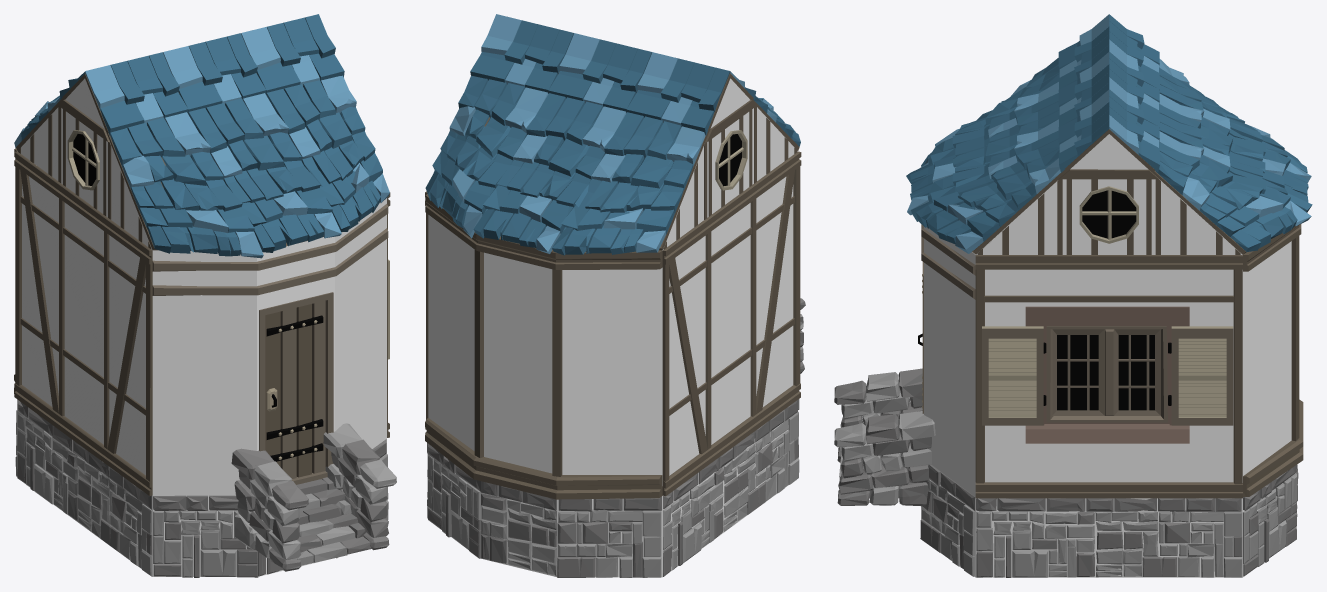
File: house_15_full.glb
The picture shows the model from 3 angles, left to right: view 1: azimuth 30°, elevation 25°; view 2: azimuth 150°, elevation 25°; view 3: azimuth 270°, elevation 25°; orthographic projection.
Parts seen in each view (by area): view 1: DOOR_06_Balkon_2, ROOF_base_round_2, WALL_02_2, STSAIRS_07_2, FOUNDATION_02_24, FOUNDATION_01_4, ROOF_base_small_4, ROOF_base_small_6, ROOF_base_small_5, ROOF_Window_round_3, ROOF_trinagle_right_wood_3, ROOF_trinagle_left_wood_3 (+2 smaller); view 2: WINDOW_01_Balkon_2, ROOF_base_round_3, WALL_02_2, FOUNDATION_01_5, FOUNDATION_02_24, ROOF_base_small_9, ROOF_base_small_8, ROOF_base_small_7, ROOF_Window_round_3, ROOF_trinagle_left_wood_3, ROOF_trinagle_right_wood_3, ROOF_triangles_up_wood_4 (+2 smaller); view 3: WINDOW_06_2, FOUNDATION_02_25, ROOF_base_round_2, ROOF_base_round_3, WINDOW_01_Balkon_2, DOOR_06_Balkon_2, STSAIRS_07_2, ROOF_Window_round_2, FOUNDATION_01_4, FOUNDATION_01_5, ROOF_trinagle_right_wood_2, ROOF_trinagle_left_wood_2 (+7 smaller).
Boxes of the visible parts, x1,y1,x2,y2 form: DOOR_06_Balkon_2: (152,198,388,495); ROOF_base_round_2: (107,75,389,258); WALL_02_2: (14,151,152,495); STSAIRS_07_2: (231,423,396,571); FOUNDATION_02_24: (17,399,152,576); FOUNDATION_01_4: (152,438,388,577); ROOF_base_small_4: (85,52,188,135); ROOF_base_small_6: (241,14,344,95); ROOF_base_small_5: (163,33,266,114); ROOF_Window_round_3: (62,109,107,216); ROOF_trinagle_right_wood_3: (107,142,152,249); ROOF_trinagle_left_wood_3: (17,106,62,183); WINDOW_01_Balkon_2: (425,194,662,499); ROOF_base_round_3: (425,75,707,255); WALL_02_2: (662,151,801,496); FOUNDATION_01_5: (427,443,662,577); FOUNDATION_02_24: (662,400,799,576); ROOF_base_small_9: (626,52,730,135); ROOF_base_small_8: (470,14,573,93); ROOF_base_small_7: (548,33,651,112); ROOF_Window_round_3: (708,109,752,216); ROOF_trinagle_left_wood_3: (662,142,707,250); ROOF_trinagle_right_wood_3: (753,106,797,183); ROOF_triangles_up_wood_4: (705,78,756,142); WINDOW_06_2: (975,255,1242,498); FOUNDATION_02_25: (975,498,1242,577); ROOF_base_round_2: (906,58,1064,254); ROOF_base_round_3: (1153,59,1312,254); WINDOW_01_Balkon_2: (1242,224,1303,496); DOOR_06_Balkon_2: (918,224,975,496); STSAIRS_07_2: (834,368,935,506); ROOF_Window_round_2: (1064,179,1153,254); FOUNDATION_01_4: (920,464,984,577); FOUNDATION_01_5: (1242,464,1298,577); ROOF_trinagle_right_wood_2: (1153,179,1242,254); ROOF_trinagle_left_wood_2: (976,179,1064,254).
Size of the model in its own units: 3.22 by 5.59 by 5.37.
1 material, 1 textured.
